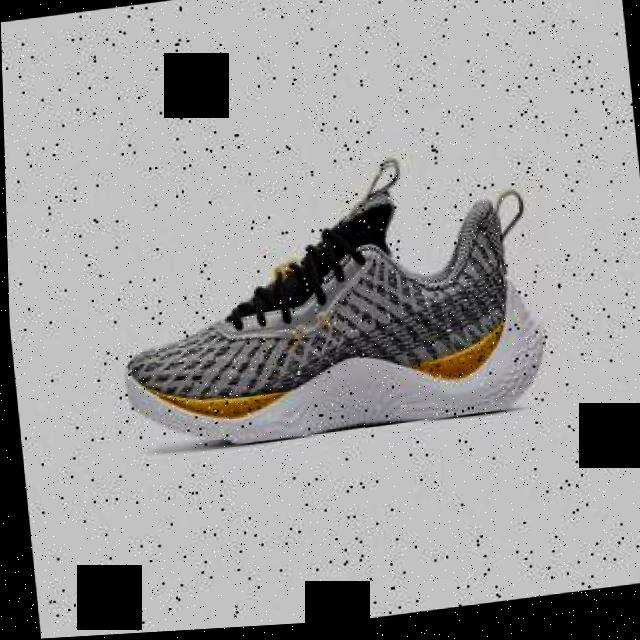shoe: (106, 148, 551, 460)
